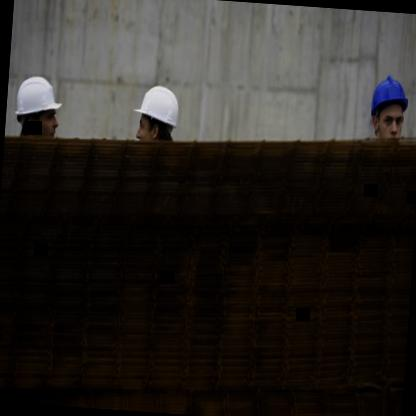helmet: (7, 68, 69, 153), (128, 80, 188, 156), (363, 71, 413, 153)
